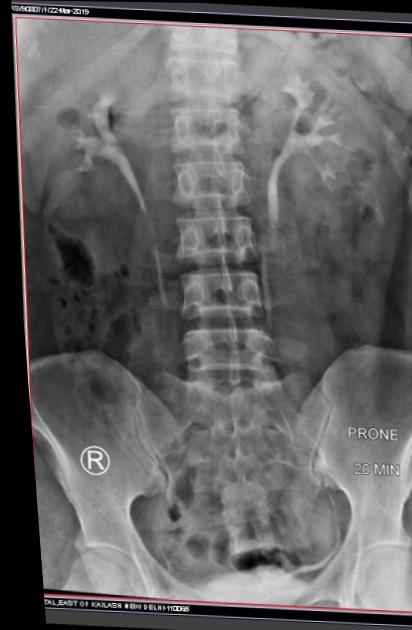vertebrae: (166, 98, 256, 152)
